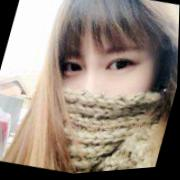WRONG: (36, 13, 173, 166)
